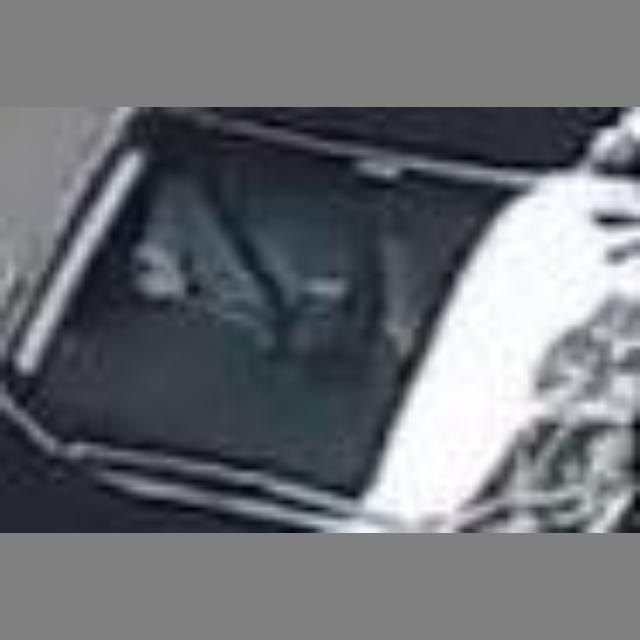pakai: (124, 162, 351, 396)
